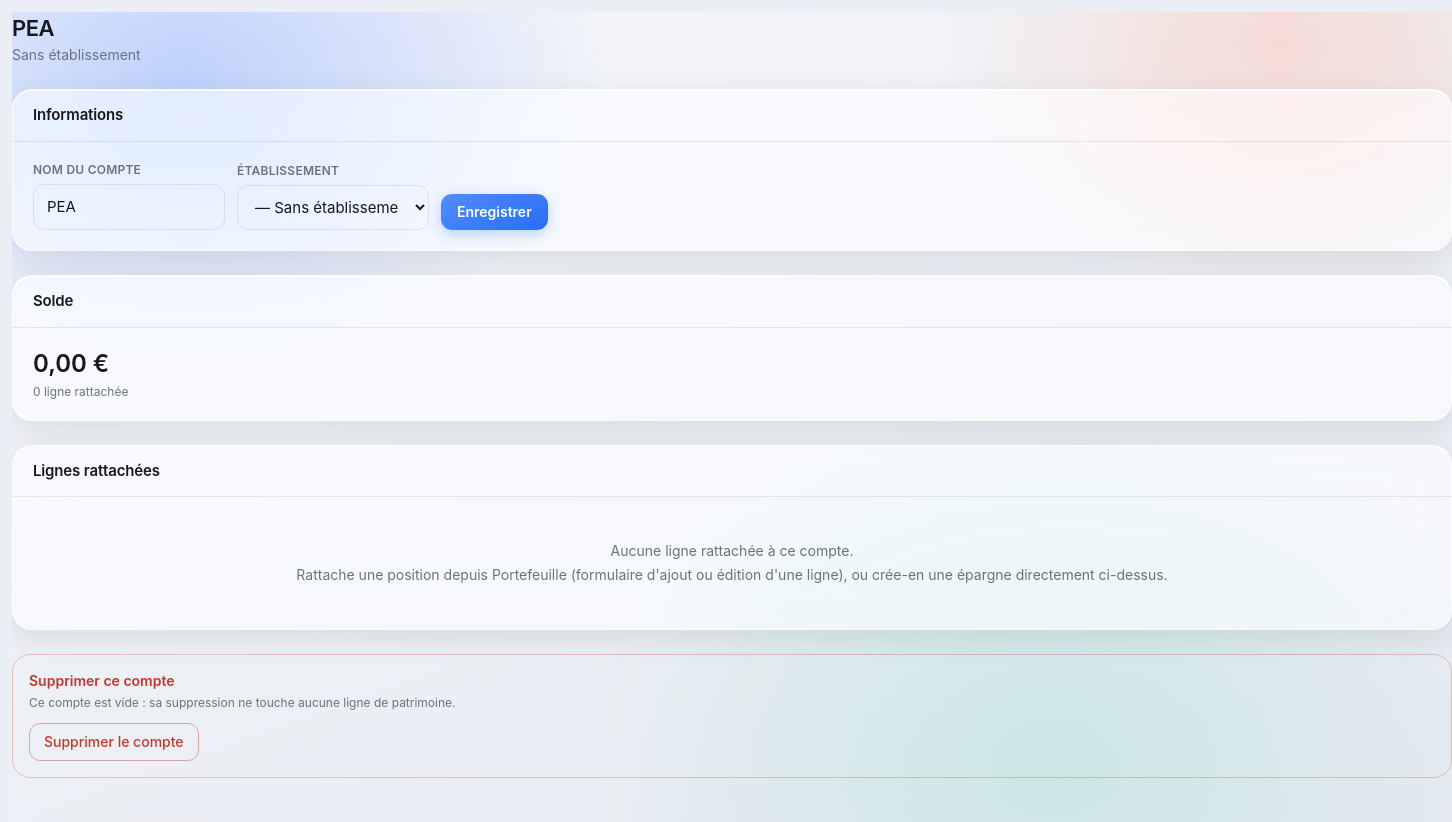
Test: CompteDetailContent — suppression du compte (paquet de design) › annuler la confirmation ne supprime rien
This screenshot has width=1452, height=822.
Step 1. Click the button "Supprimer le compte" → (114,742), box [29, 723, 199, 761]
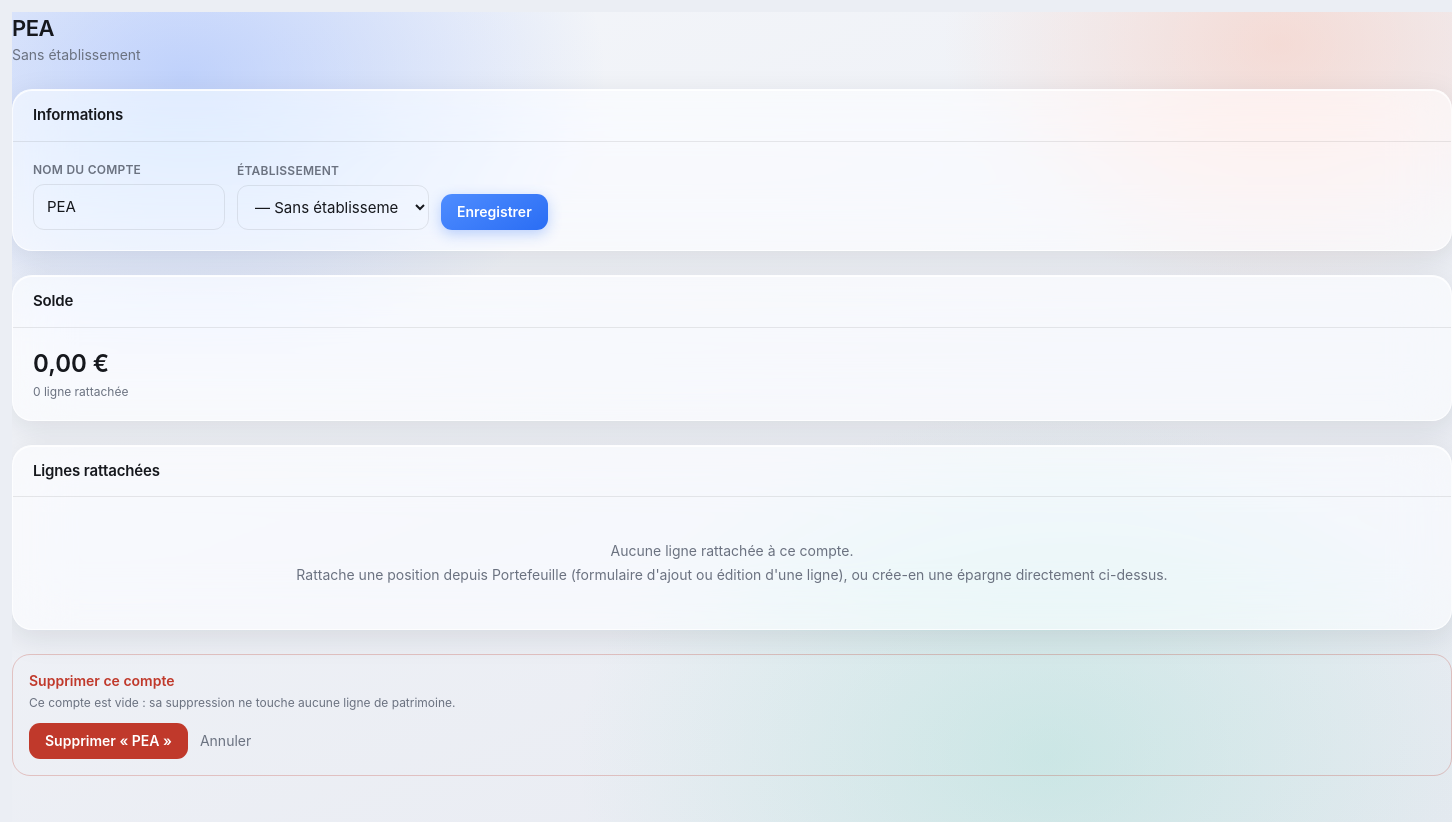
Step 2. Click the button "Annuler" → (226,741), box [200, 731, 251, 751]
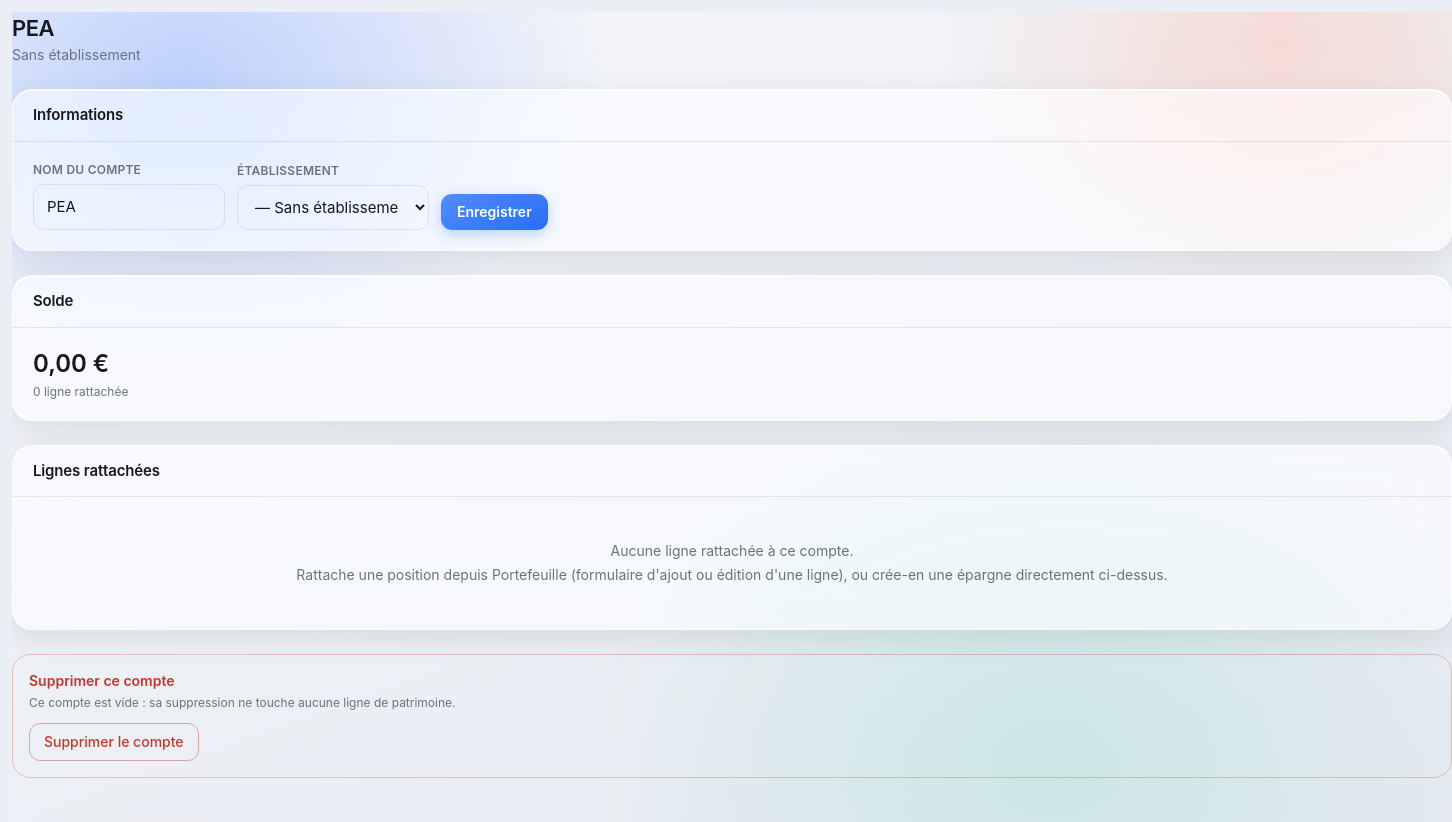
Expected: the button "Supprimer le compte" is shown, [29, 723, 199, 761]
